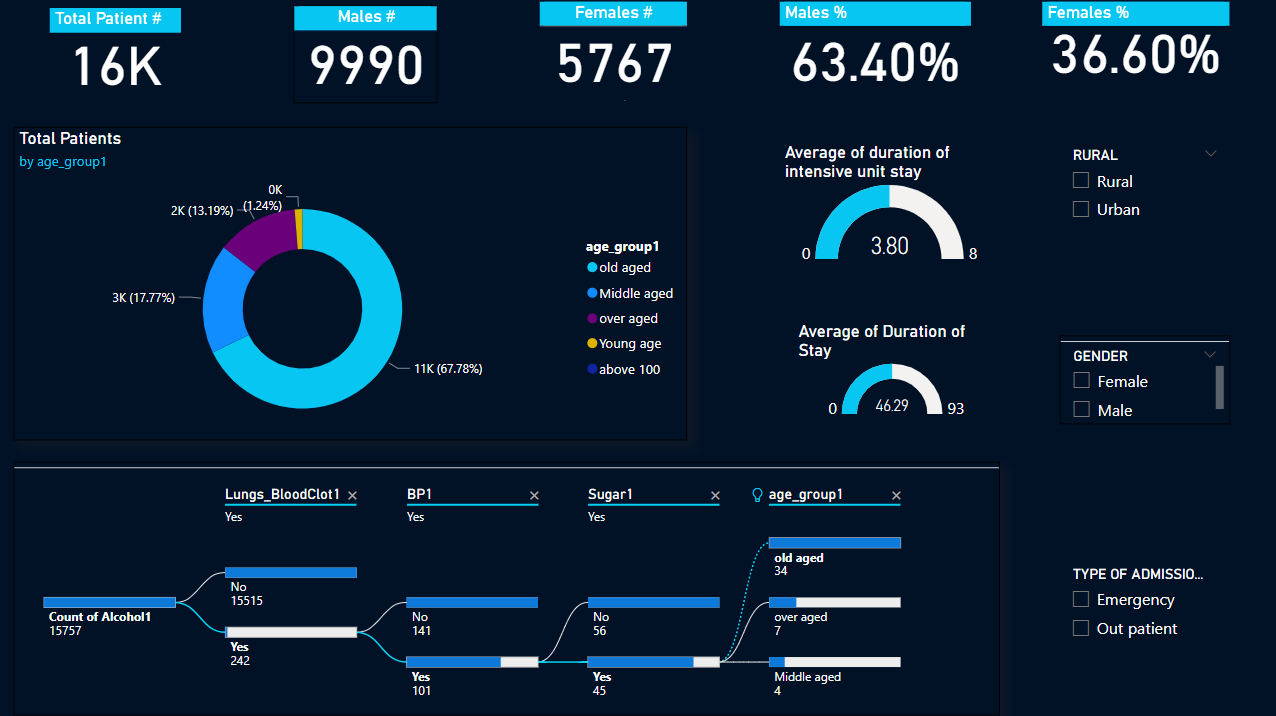

This screenshot's page, from the dashboard's own definition file:
{"tool":"powerbi","page":{"name":"Page 1","canvas":[1280,720],"ordinal":0},"visuals":[{"type":"card","title":"Males #","fields":{"Values":["Patient Details.Males"]},"box":[297.5,7.5,143.8,97.5],"z":0},{"type":"card","title":"Females #","fields":{"Values":["Patient Details.Females"]},"box":[543.8,3.8,147.5,103.8],"z":1000},{"type":"card","title":"    Total Patient #","fields":{"Values":["Patient Details.Total Patients"]},"box":[53.8,10,131.2,97.5],"z":2000},{"type":"card","title":"Males %","fields":{"Values":["Patient Details.Males_Percent"]},"box":[783.8,3.8,191.2,110],"z":3000},{"type":"card","title":"Females %","fields":{"Values":["Patient Details.Females_Percent"]},"box":[1046.2,3.8,187.5,92.5],"z":4000},{"type":"decompositionTreeVisual","fields":{"Analyze":["CountNonNull(Patient Details.Alcohol1)"],"ExplainBy":["Patient Details.Lungs_BloodClot1","Patient Details.BP1","Patient Details.Sugar1","Patient Details.age_group1"]},"box":[17.5,463.8,986.2,253.8],"z":5000},{"type":"donutChart","fields":{"Category":["Patient Details.age_group1"],"Y":["Patient Details.Total Patients"]},"box":[17.5,128.8,673.8,313.8],"z":7000},{"type":"gauge","fields":{"Y":["Avg(Patient Details.duration of intensive unit stay)"]},"box":[783.8,143.8,220,127.5],"z":9000},{"type":"gauge","fields":{"Y":["Avg(Patient Details.Duration of Stay)"]},"box":[797.5,322.5,206.2,103.8],"z":10000},{"type":"slicer","fields":{"Values":["Patient Details.RURAL"]},"box":[1063.8,143.8,170,100],"z":11000},{"type":"slicer","fields":{"Values":["Patient Details.GENDER"]},"box":[1063.8,337.5,170,88.8],"z":12000},{"type":"slicer","fields":{"Values":["Patient Details.TYPE OF ADMISSION-EMERGENCY/OPD"]},"box":[1061.2,551.2,218.8,105],"z":13000}]}

Visuals, with their boxes in screenshot pixels (x1, y1, x2, y2), scaled from the page's 1280x720 canvas onto the 1276x716 screenshot:
"Males #" card: <box>297,7,440,104</box>
"Females #" card: <box>542,4,689,107</box>
"    Total Patient #" card: <box>54,10,184,107</box>
"Males %" card: <box>781,4,972,113</box>
"Females %" card: <box>1043,4,1230,96</box>
decompositionTreeVisual - CountNonNull(Patient Details.Alcohol1) x Patient Details.Lungs_BloodClot1: <box>17,461,1001,714</box>
donutChart - Patient Details.age_group1 x Patient Details.Total Patients: <box>17,128,689,440</box>
gauge - Avg(Patient Details.duration of intensive unit stay): <box>781,143,1001,270</box>
gauge - Avg(Patient Details.Duration of Stay): <box>795,321,1001,424</box>
slicer - Patient Details.RURAL: <box>1060,143,1230,242</box>
slicer - Patient Details.GENDER: <box>1060,336,1230,424</box>
slicer - Patient Details.TYPE OF ADMISSION-EMERGENCY/OPD: <box>1058,548,1275,653</box>
